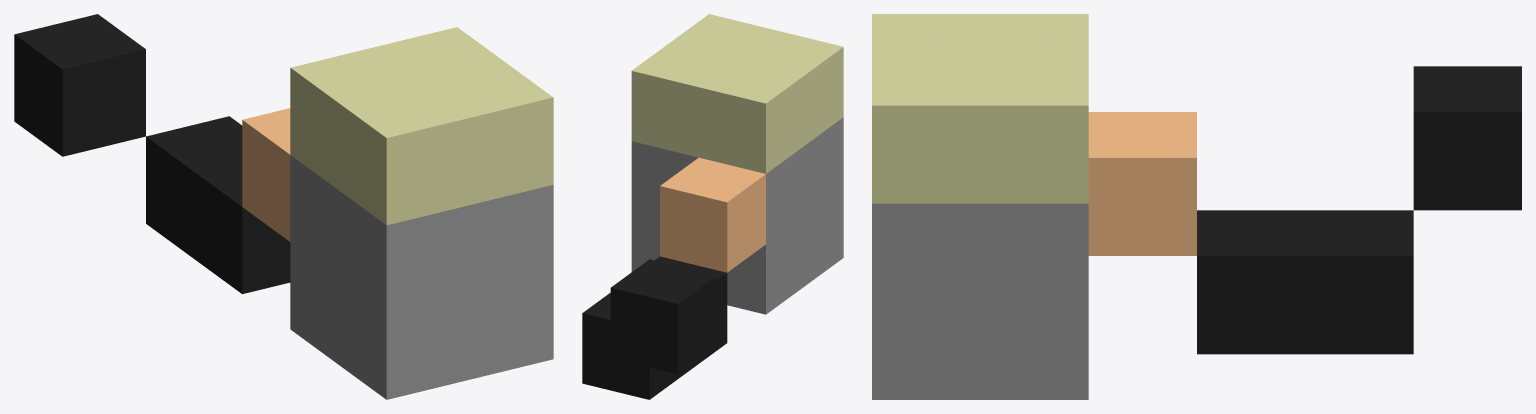
The model's file is scummBarPirateKing03_drinkArm.obj.
The picture shows the model from 3 angles, left to right: view 1: azimuth 30°, elevation 25°; view 2: azimuth 150°, elevation 25°; view 3: azimuth 270°, elevation 25°; orthographic projection. The views are drawn at different scales.
Bounding box in the file's own units: 3 × 3 × 6.
Materials: 1 (1 with a texture image).
